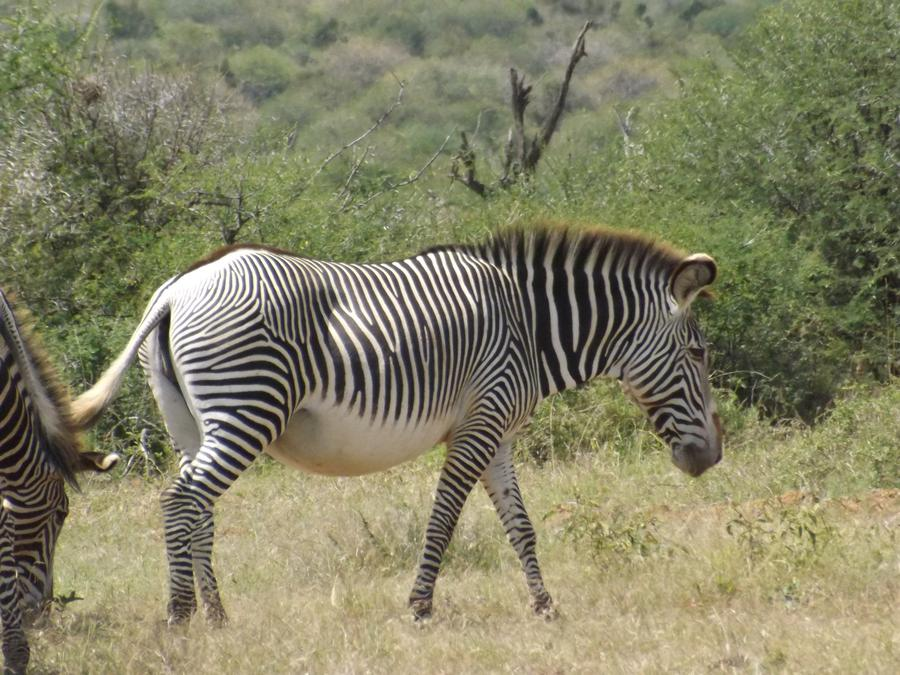zebra_grevys: (125, 221, 526, 434)
